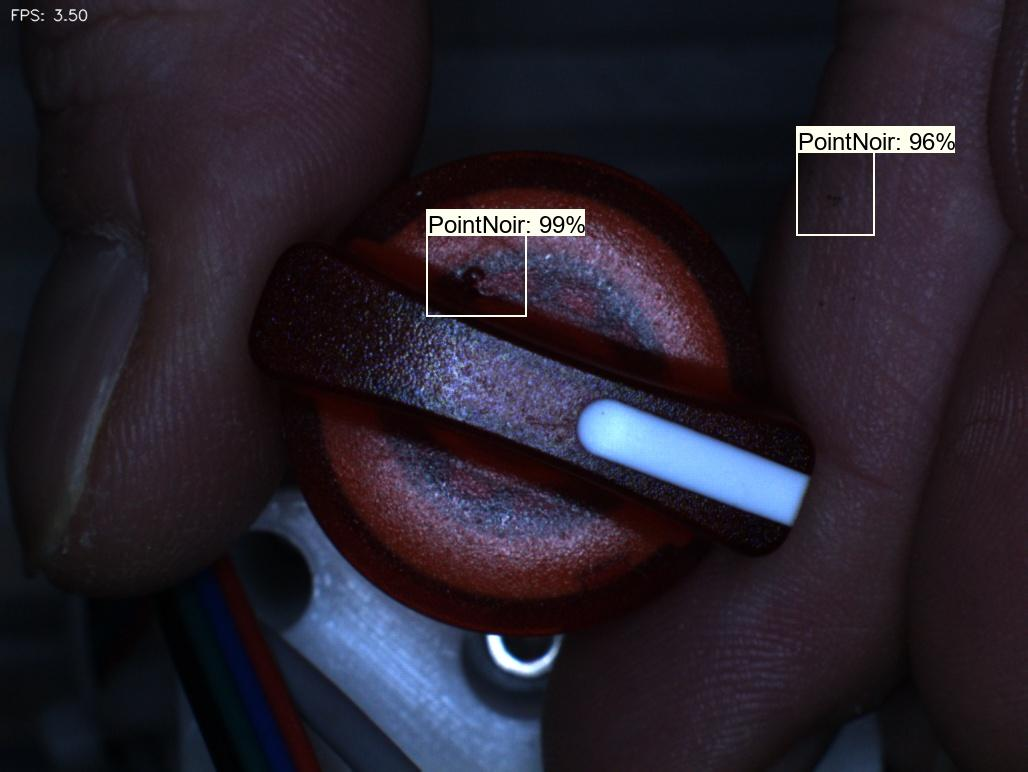Choc: (429, 234, 517, 308)
